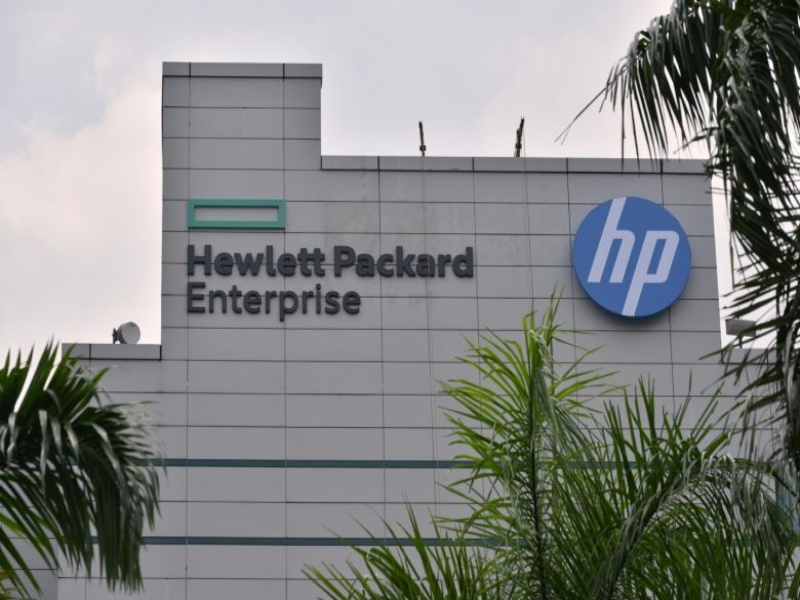hp: (594, 194, 679, 317)
